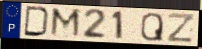1: (111, 10, 125, 41)
2: (82, 8, 108, 41)
D: (23, 5, 52, 38)
M: (49, 7, 83, 40)
Q: (140, 12, 165, 42)
Z: (166, 12, 195, 43)
